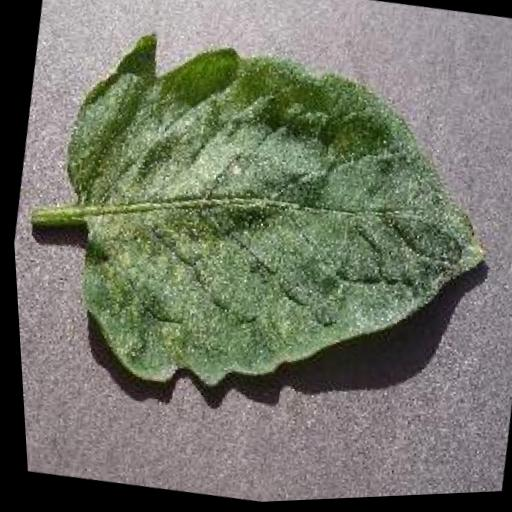Spider Mites: (22, 11, 512, 441)
